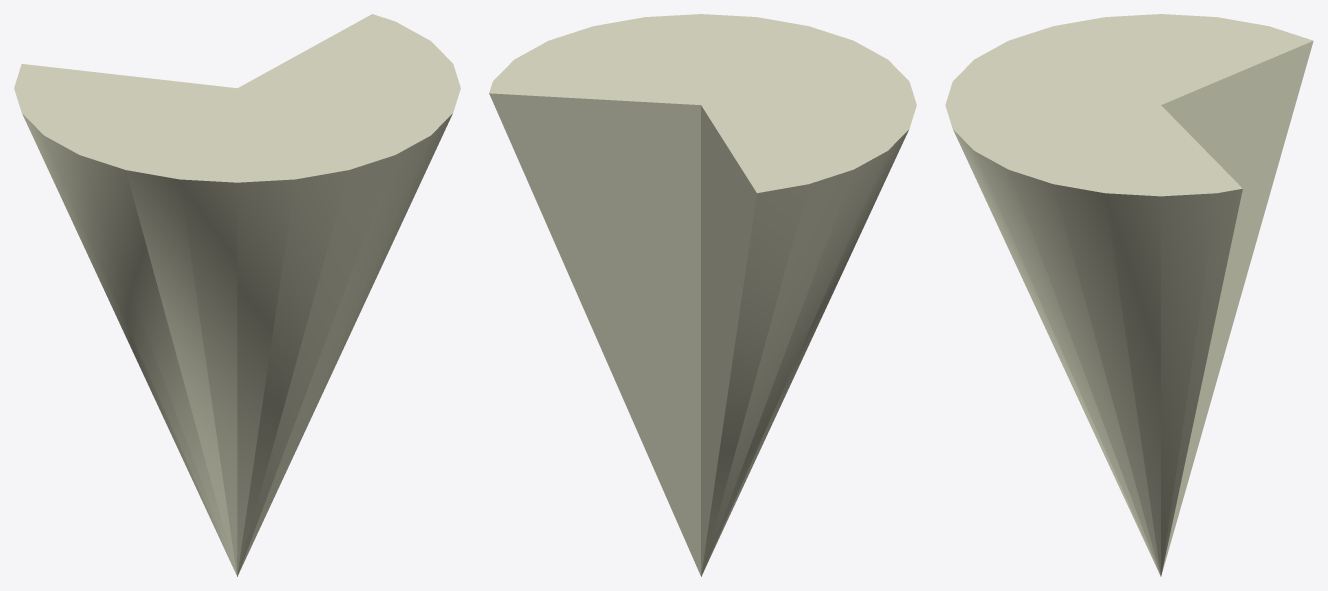
The picture shows the model from 3 angles, left to right: view 1: azimuth 30°, elevation 25°; view 2: azimuth 150°, elevation 25°; view 3: azimuth 270°, elevation 25°; orthographic projection. The views are drawn at different scales.
Parts seen in each view (by area): view 1: SketchUp; view 2: SketchUp; view 3: SketchUp.
Part boxes in pixels (x1=…): SketchUp: x1=14, y1=14, x2=460, y2=576; SketchUp: x1=489, y1=14, x2=916, y2=576; SketchUp: x1=945, y1=14, x2=1313, y2=576.
Bounding box in the file's own units: 62.99 × 53.77 × 75.98.
